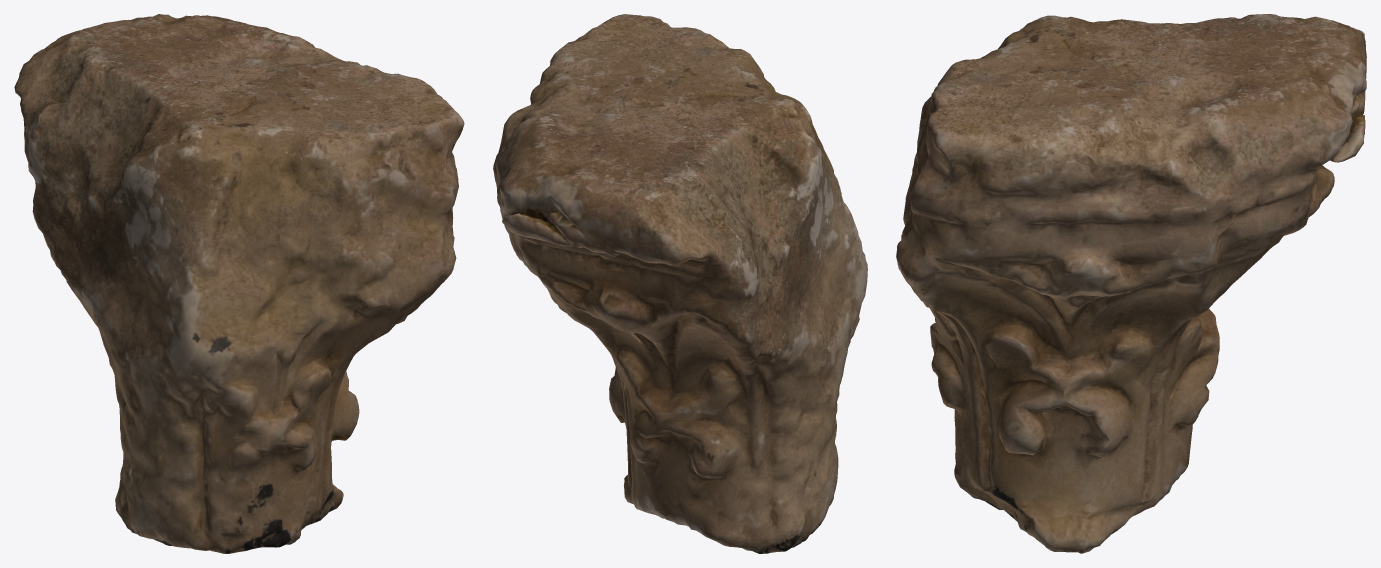
The picture shows the model from 3 angles, left to right: view 1: azimuth 30°, elevation 25°; view 2: azimuth 150°, elevation 25°; view 3: azimuth 270°, elevation 25°; orthographic projection. The views are drawn at different scales.
Visible parts, largest first — view 1: HS38_25K; view 2: HS38_25K; view 3: HS38_25K.
Boxes of the visible parts, x1=… form: HS38_25K: x1=14, y1=14, x2=464, y2=553; HS38_25K: x1=493, y1=14, x2=867, y2=553; HS38_25K: x1=896, y1=14, x2=1366, y2=553.
Size of the model in its own units: 0.181 by 0.2474 by 0.2251.
1 material, 1 textured.
